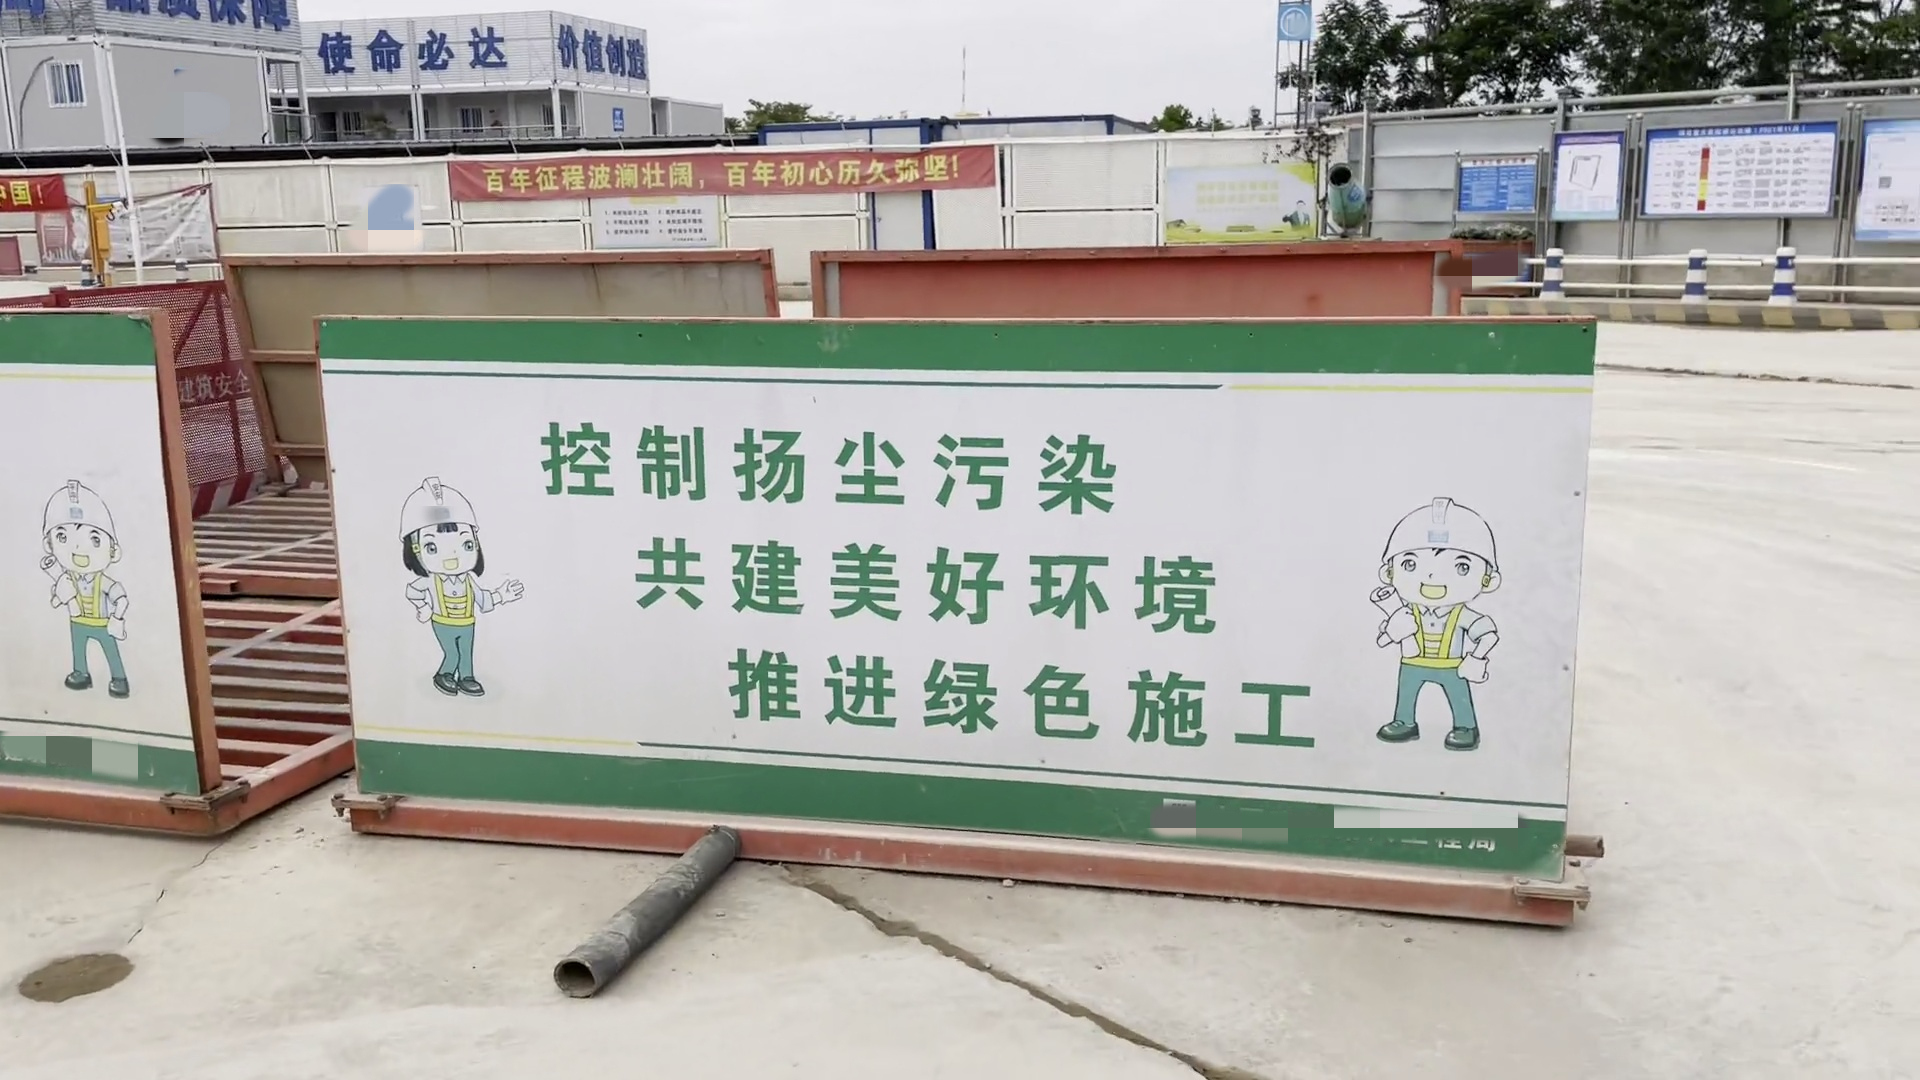fence: (80, 291, 264, 502)
slogan: (1643, 129, 1833, 211), (446, 158, 986, 186), (1162, 160, 1309, 240), (316, 26, 517, 79), (1866, 116, 1920, 239), (589, 204, 717, 247), (553, 22, 645, 76), (99, 3, 293, 24), (1563, 138, 1611, 215), (1464, 156, 1526, 208), (4, 177, 62, 210)
